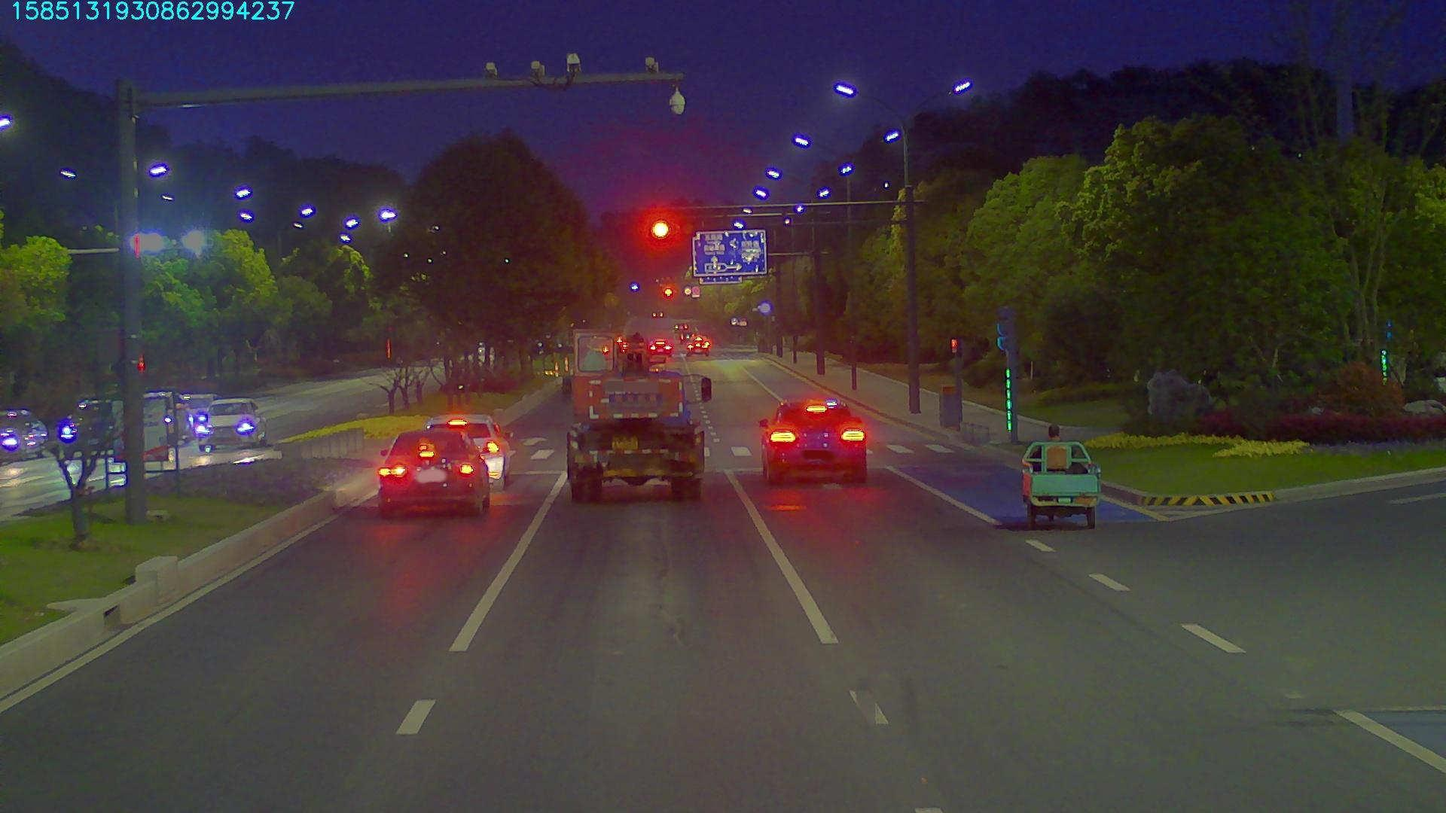red: (646, 215, 671, 242)
